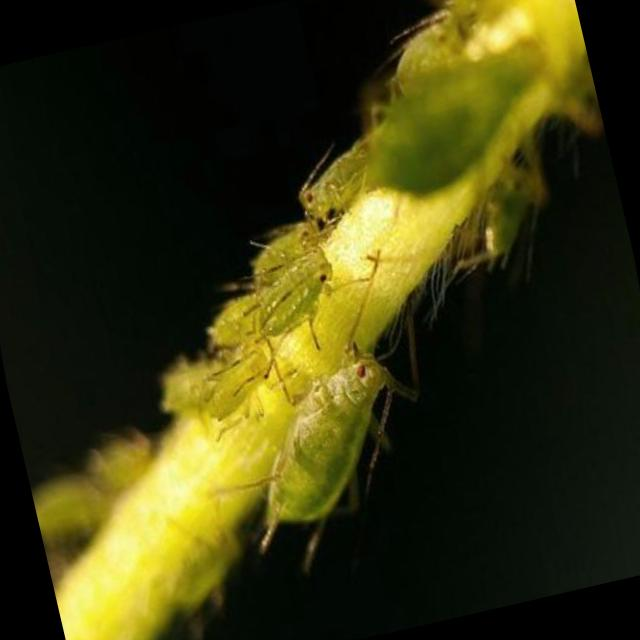aphid: (209, 293, 474, 572), (363, 0, 564, 122), (446, 134, 582, 286), (176, 326, 297, 431), (234, 236, 343, 345), (290, 132, 390, 234)
